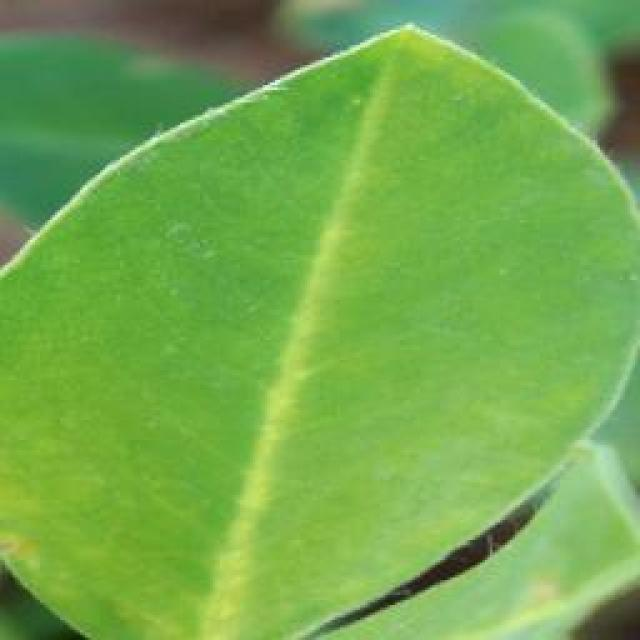Yellow_and_black_sigatoka: (2, 20, 640, 640)
